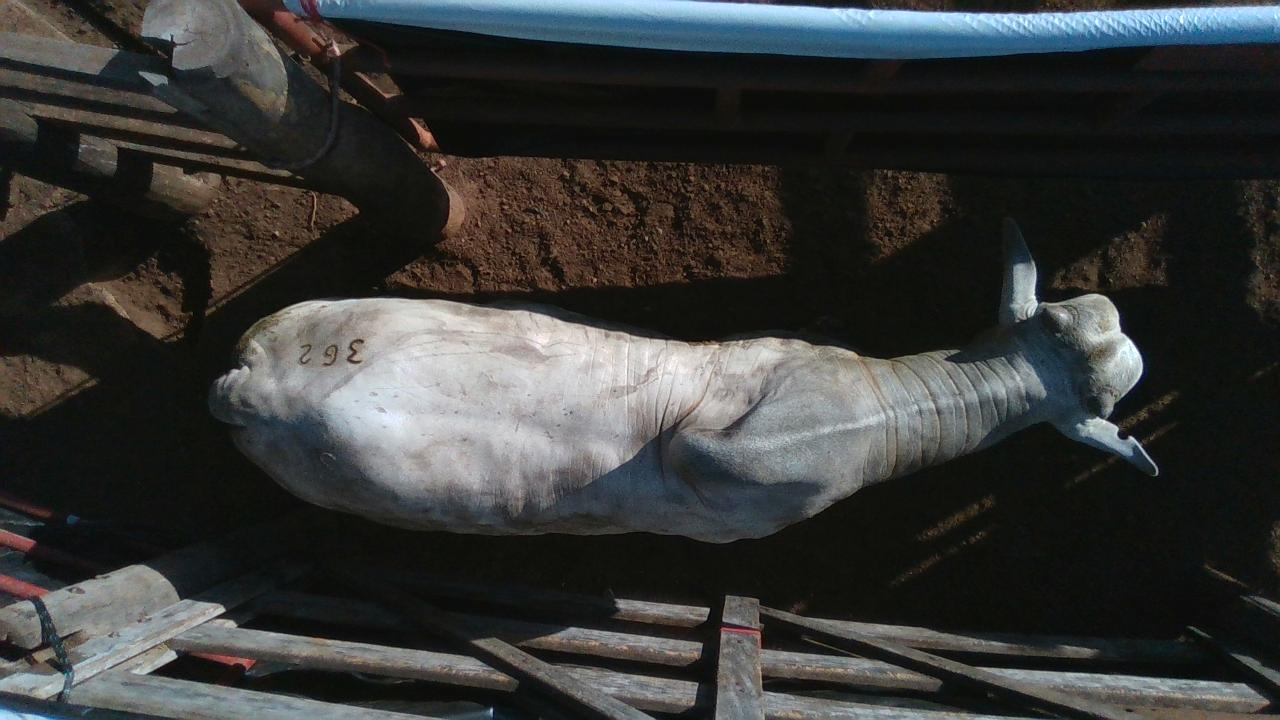cattle: (206, 215, 1160, 544)
